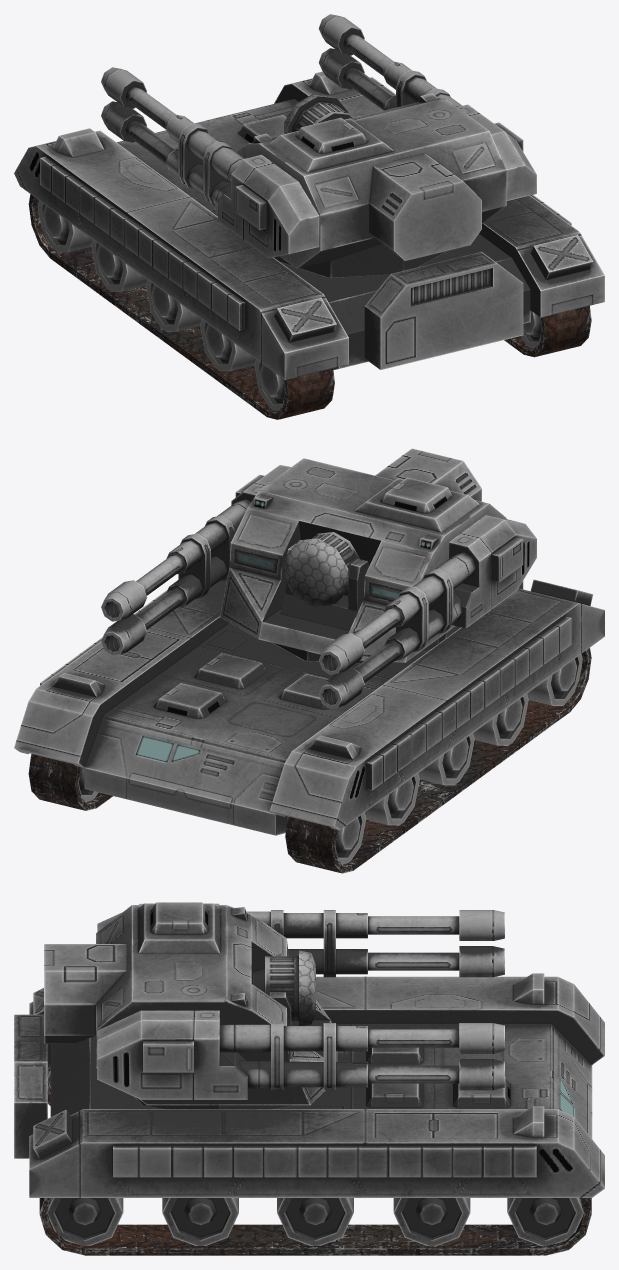
Rendered from Partisan.FBX.
3 renders of one model, top to bottom at view 1: azimuth 30°, elevation 25°; view 2: azimuth 150°, elevation 25°; view 3: azimuth 270°, elevation 25°, orthographic. The views are drawn at different scales.
Visible parts, largest first — view 1: body, turret, mantlet_3, trackr, mantlet_1, trackl, barrel_3, barrel_1, barrel_2, barrel_4, dish, wheel2 (+4 smaller); view 2: body, turret, mantlet_3, trackr, mantlet_1, dish, trackl, barrel_1, barrel_3, barrel_2, barrel_4, wheel3 (+4 smaller); view 3: body, turret, mantlet_1, trackl, mantlet_3, barrel_4, barrel_2, barrel_3, barrel_1, wheel7, wheel9, wheel8 (+3 smaller).
Boxes of the visible parts, <box> form: body: <box>14,71,604,379</box>; turret: <box>235,93,506,277</box>; mantlet_3: <box>166,115,319,258</box>; trackr: <box>28,194,334,419</box>; mantlet_1: <box>383,61,536,200</box>; trackl: <box>504,305,591,357</box>; barrel_3: <box>101,67,176,129</box>; barrel_1: <box>318,14,393,75</box>; barrel_2: <box>318,48,393,109</box>; barrel_4: <box>101,101,176,163</box>; dish: <box>284,94,352,134</box>; wheel2: <box>91,240,147,291</box>; body: <box>14,579,604,835</box>; turret: <box>219,448,506,663</box>; mantlet_3: <box>384,515,536,661</box>; trackr: <box>285,648,591,873</box>; mantlet_1: <box>166,465,290,607</box>; dish: <box>284,532,359,606</box>; trackl: <box>28,754,112,810</box>; barrel_1: <box>101,554,185,621</box>; barrel_3: <box>319,607,402,674</box>; barrel_2: <box>101,588,185,655</box>; barrel_4: <box>319,641,402,708</box>; wheel3: <box>418,733,474,785</box>; body: <box>14,973,604,1197</box>; turret: <box>44,902,337,1109</box>; mantlet_1: <box>97,1010,367,1099</box>; trackl: <box>39,1198,591,1255</box>; mantlet_3: <box>97,903,367,977</box>; barrel_4: <box>368,946,504,977</box>; barrel_2: <box>368,1059,504,1090</box>; barrel_3: <box>368,910,504,940</box>; barrel_1: <box>368,1023,504,1053</box>; wheel7: <box>393,1198,470,1245</box>; wheel9: <box>162,1198,238,1245</box>; wheel8: <box>277,1198,353,1245</box>.
Bounding box in the file's own units: 32.67 × 47.36 × 21.39.
Materials: 1 (1 with a texture image).
